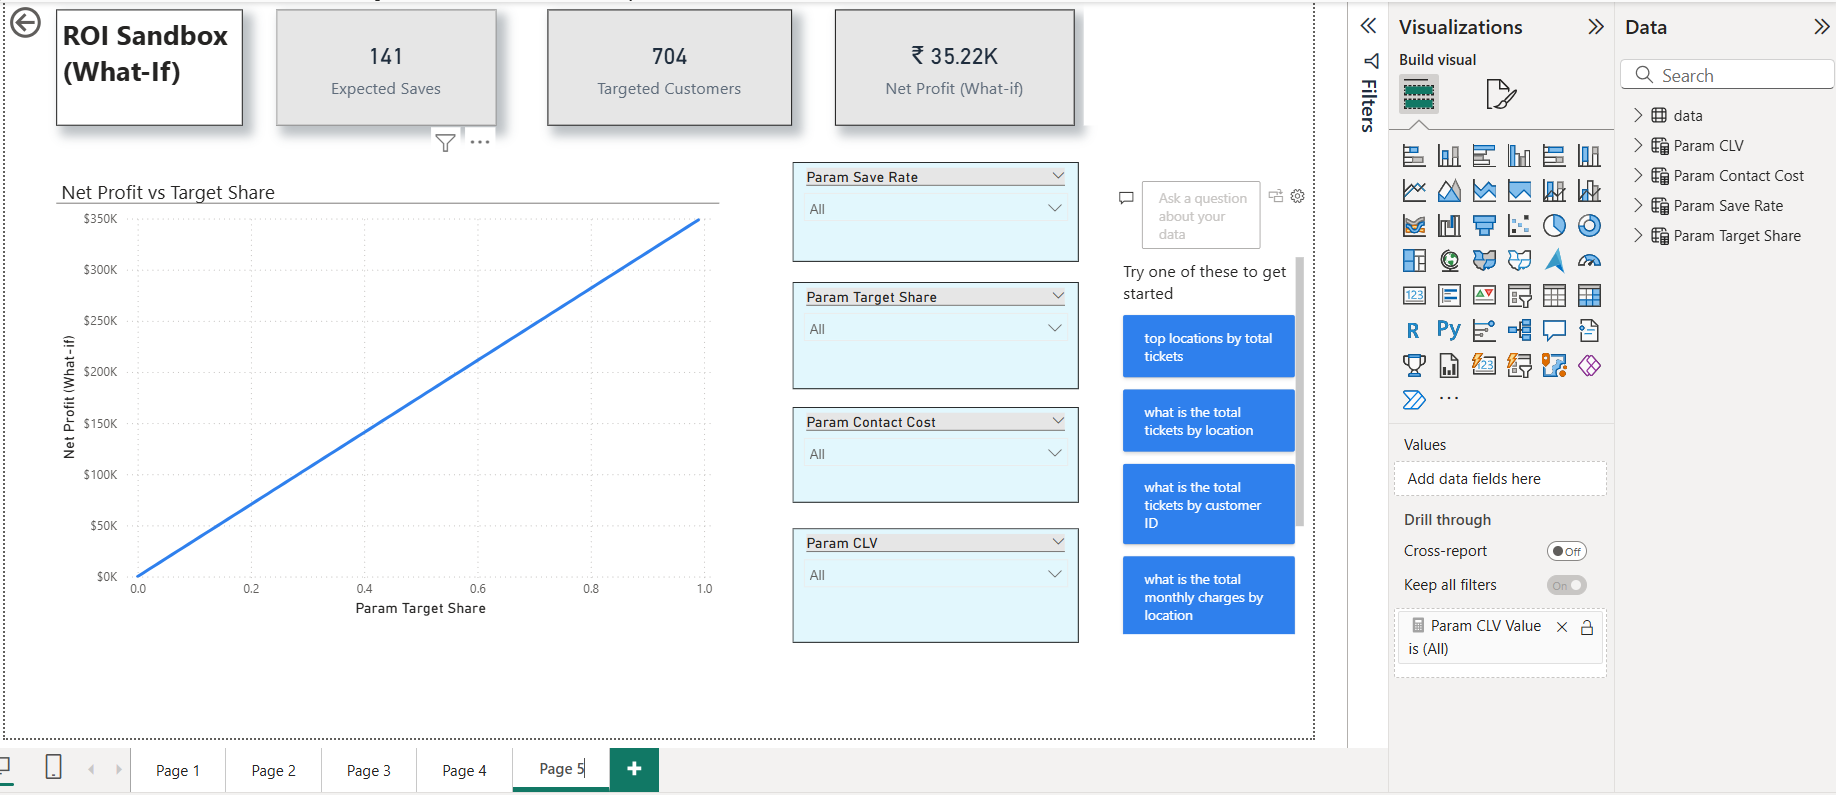

Layout of this report page (visuals, bound fields, positions):
{"tool":"powerbi","page":{"name":"Page 5","canvas":[1280,720],"ordinal":4},"visuals":[{"type":"slicer","fields":{"Values":["Param Contact Cost.Param Contact Cost"]},"box":[770,396.7,280,93.3],"z":0},{"type":"slicer","fields":{"Values":["Param CLV.Param CLV"]},"box":[770,514.4,280,112.2],"z":1},{"type":"slicer","fields":{"Values":["Param Target Share.Param Target Share"]},"box":[770,274.4,280,104.4],"z":2},{"type":"slicer","fields":{"Values":["Param Save Rate.Param Save Rate"]},"box":[770,156.7,280,97.8],"z":3},{"type":"actionButton","box":[0,0,50,40],"z":4},{"type":"card","fields":{"Values":["Param CLV.Targeted Customers"]},"box":[531.1,7.8,238.9,113.3],"z":5},{"type":"card","fields":{"Values":["Param CLV.Net Profit (What-if)"]},"box":[812.2,7.8,234.4,113.3],"z":6},{"type":"card","fields":{"Values":["Param CLV.Expected Saves"]},"box":[265.6,7.8,215.6,113.3],"z":7},{"type":"lineChart","title":"Net Profit vs Target Share","fields":{"Category":["Param Target Share.Param Target Share"],"Y":["Param CLV.Net Profit (What-if)"]},"box":[50,172.2,648.9,432.2],"z":8},{"type":"textbox","box":[1055.6,0,224.4,121.1],"z":9},{"type":"textbox","box":[50,7.8,182.2,113.3],"z":10},{"type":"qnaVisual","box":[1081.1,150,198.9,476.7],"z":12}]}

Visuals, with their boxes on the page's 1280x720 design canvas (x1, y1, x2, y2). These are canvas units, not pixel positions in the 1836x795 screenshot, which may show the page scaled, cropped or inside an application window:
slicer - Param Contact Cost.Param Contact Cost: 770/397/1050/490
slicer - Param CLV.Param CLV: 770/514/1050/627
slicer - Param Target Share.Param Target Share: 770/274/1050/379
slicer - Param Save Rate.Param Save Rate: 770/157/1050/254
actionButton: 0/0/50/40
card - Param CLV.Targeted Customers: 531/8/770/121
card - Param CLV.Net Profit (What-if): 812/8/1047/121
card - Param CLV.Expected Saves: 266/8/481/121
"Net Profit vs Target Share" lineChart: 50/172/699/604
textbox: 1056/0/1280/121
textbox: 50/8/232/121
qnaVisual: 1081/150/1280/627
